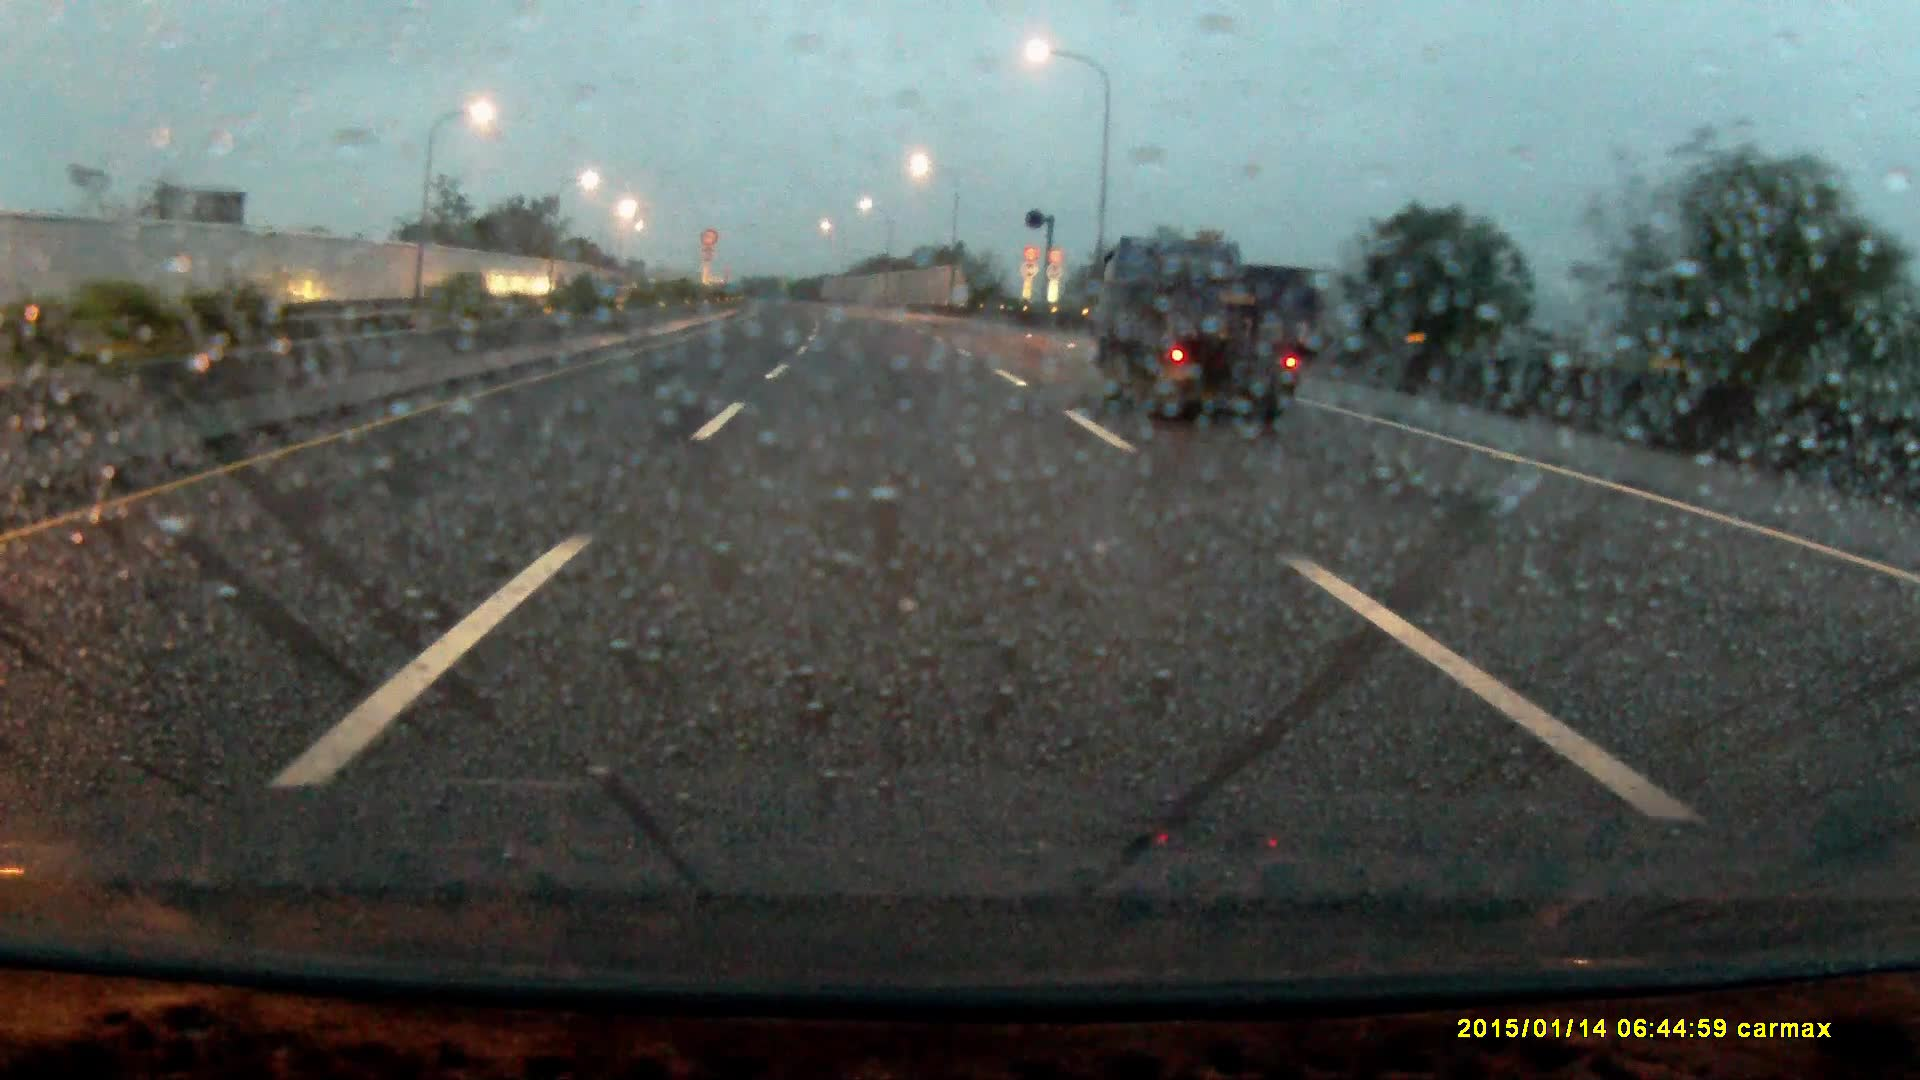vehicle: (1093, 241, 1309, 419)
